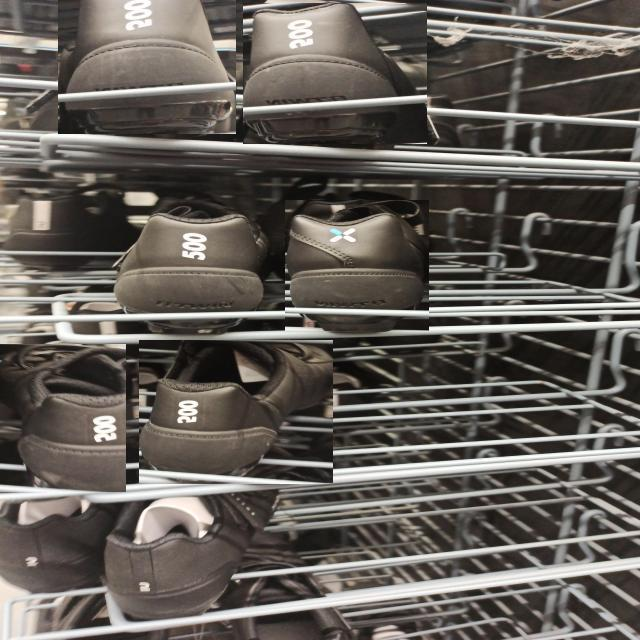shoe: (139, 340, 333, 484), (243, 3, 427, 144), (103, 484, 283, 619), (58, 0, 236, 134), (113, 194, 267, 334), (285, 200, 429, 332), (0, 344, 126, 492)
